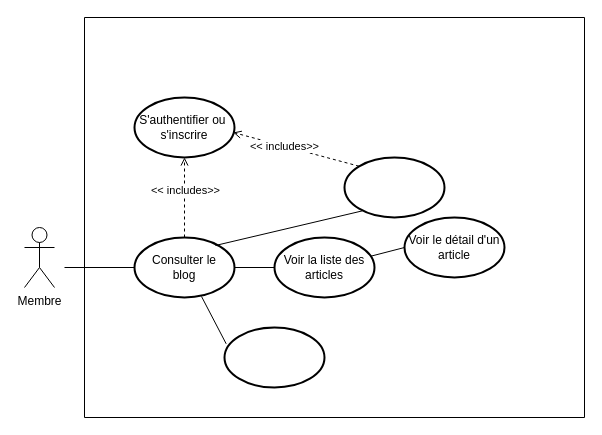
The diagram is 602 pixels wide and 435 high, and some of its shapes have lost their labels. Each missing label, with the box of its shape:
Ajouter un commentaire: (343, 156, 445, 218)
télécharger le CV: (223, 326, 325, 388)
